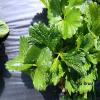Strawberry leaf: (48, 0, 83, 38), (27, 22, 62, 52), (3, 51, 37, 73), (37, 45, 51, 72), (33, 69, 48, 91)
